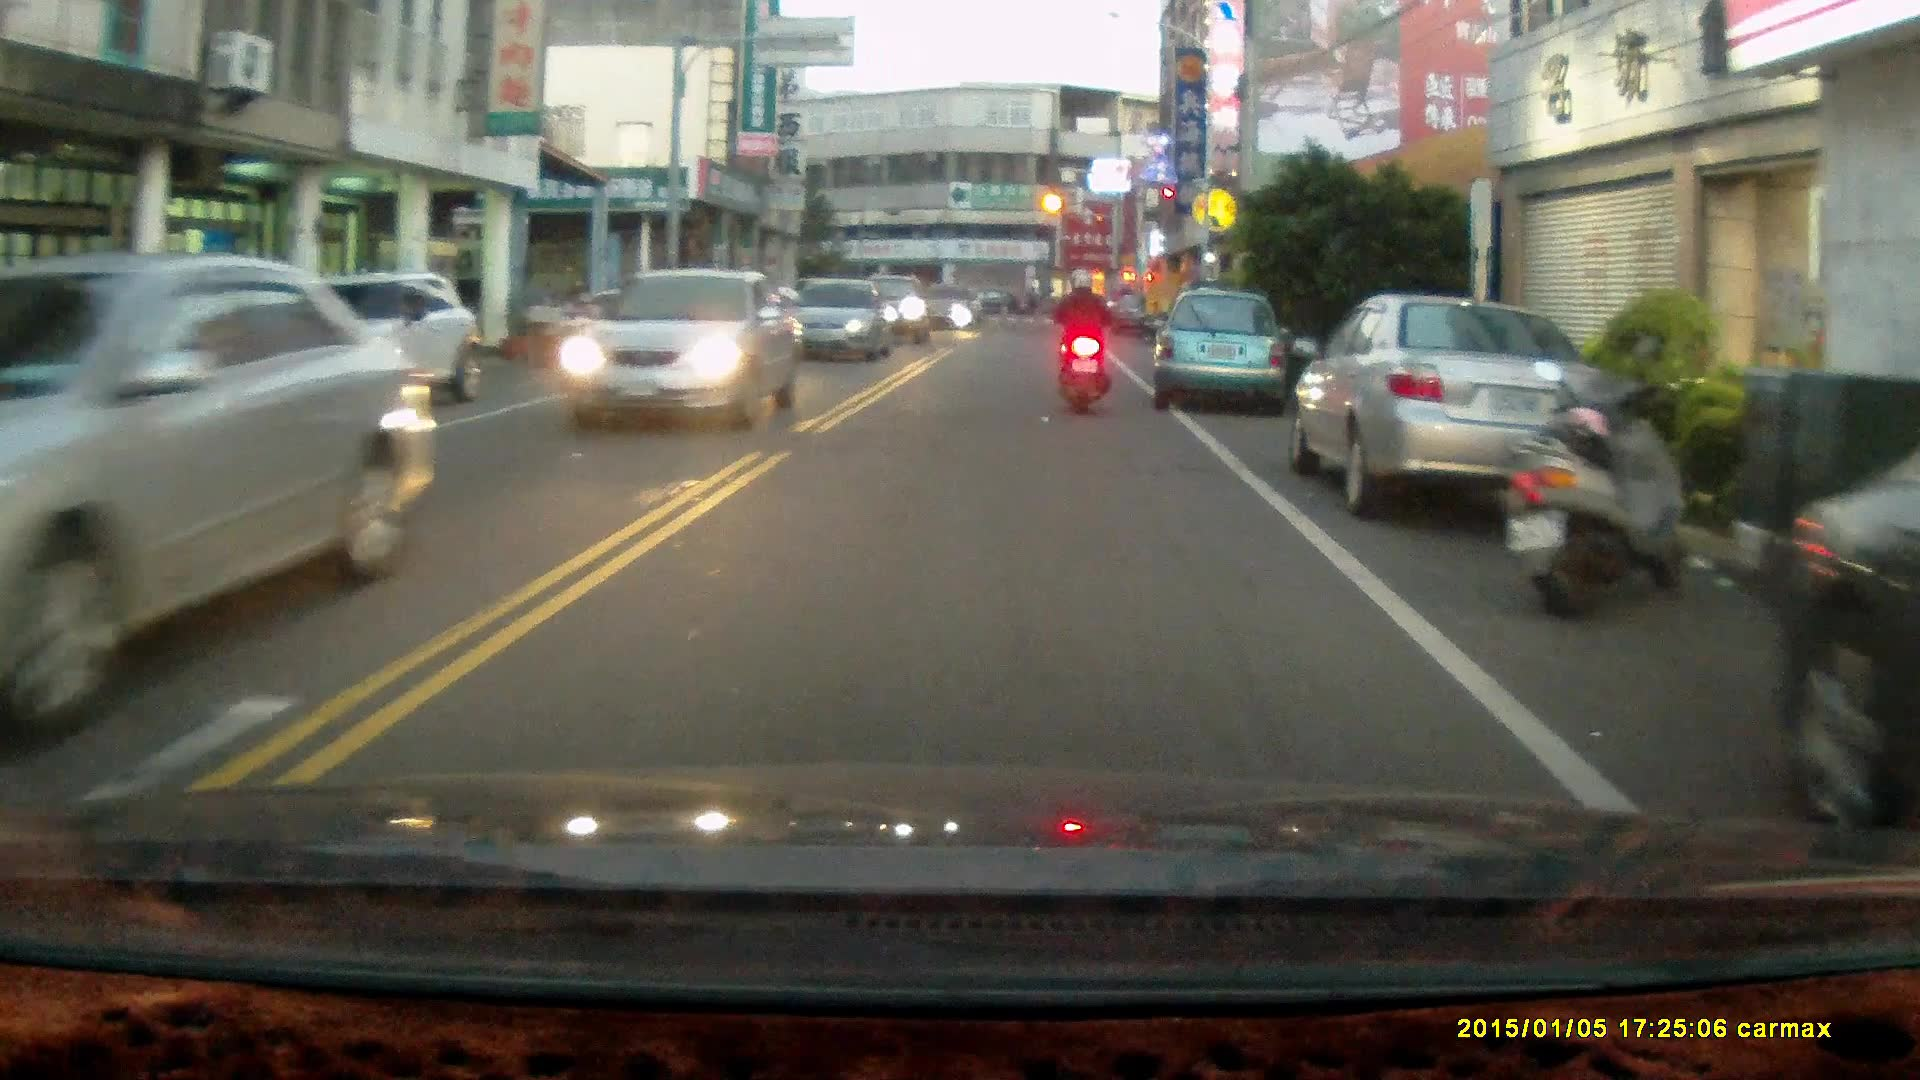rider: (1051, 267, 1115, 415)
vehicle: (5, 251, 422, 748), (1283, 294, 1614, 516), (1774, 443, 1920, 817), (561, 270, 805, 429), (229, 268, 480, 411), (1151, 286, 1293, 420), (783, 281, 897, 365)
